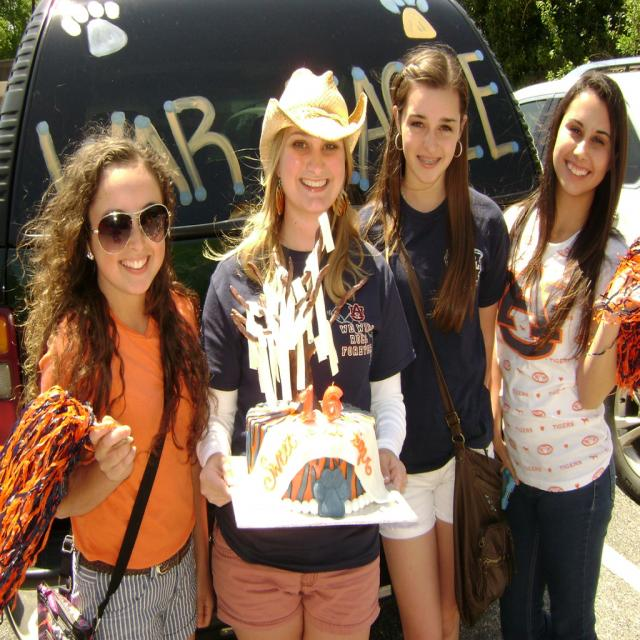Glasses: (62, 187, 172, 261)
